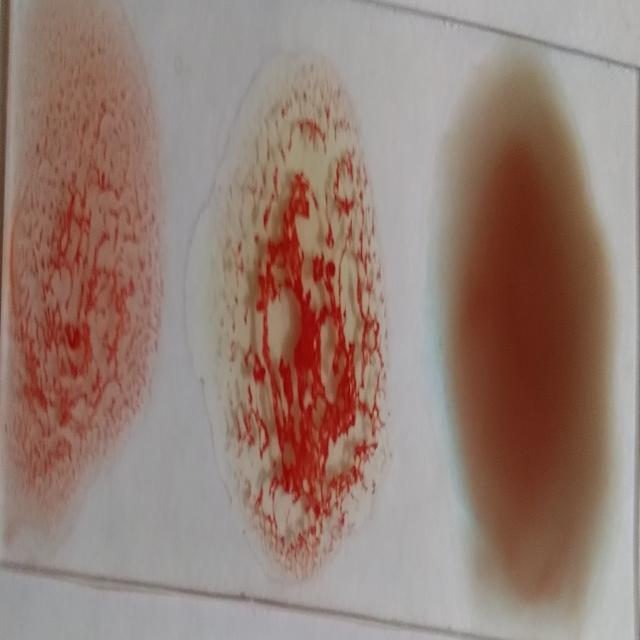B: (213, 54, 385, 586)
D: (9, 2, 164, 542)
